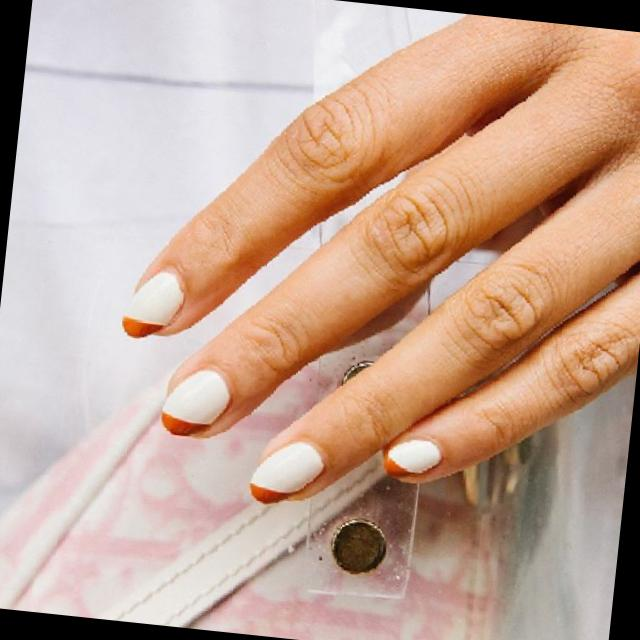Nail: (161, 369, 230, 435), (250, 442, 324, 503), (122, 271, 183, 337), (384, 438, 442, 476)
